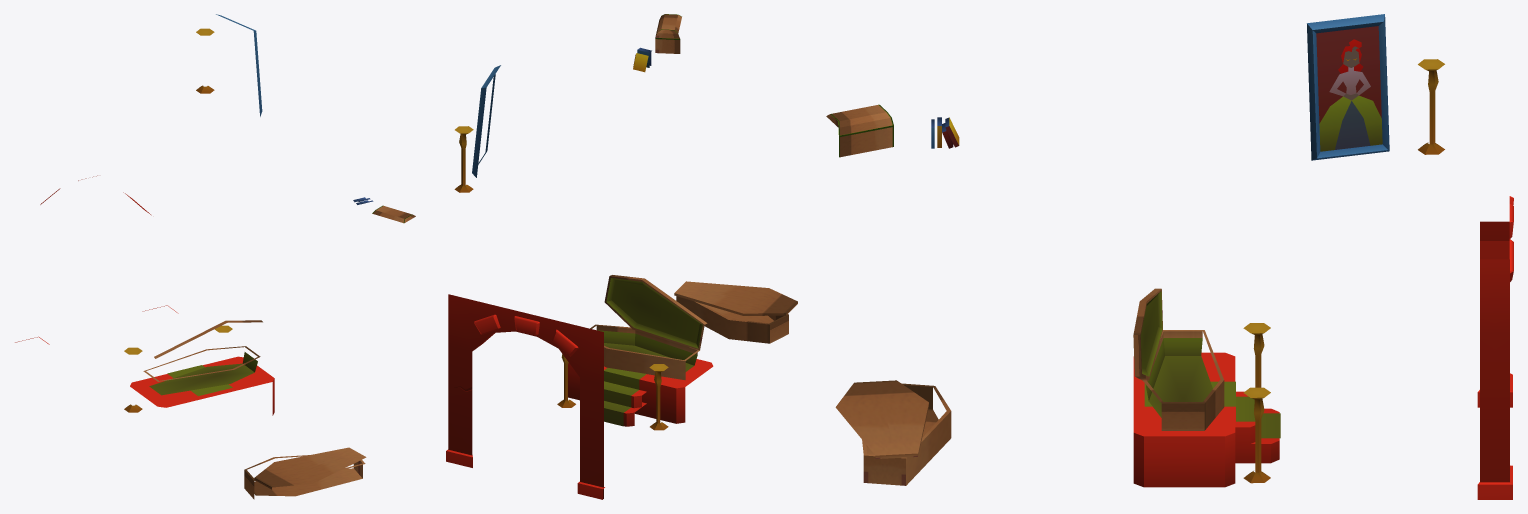
The model's file is 1.100_SanFrancisco_event_04.glb.
3 views of the same model, side by side, from view 1: azimuth 30°, elevation 25°; view 2: azimuth 150°, elevation 25°; view 3: azimuth 270°, elevation 25° (orthographic). The views are drawn at different scales.
Parts seen in each view (by area): view 1: 1.100_SanFrancisco_event_04; view 2: 1.100_SanFrancisco_event_04; view 3: 1.100_SanFrancisco_event_04.
Boxes of the visible parts, box(x1,y1,x2,y2) form: 1.100_SanFrancisco_event_04: box(15, 14, 415, 499); 1.100_SanFrancisco_event_04: box(446, 14, 797, 499); 1.100_SanFrancisco_event_04: box(826, 14, 1513, 499).
Size of the model in its own units: 67.93 by 119 by 151.
1 material, 1 textured.
